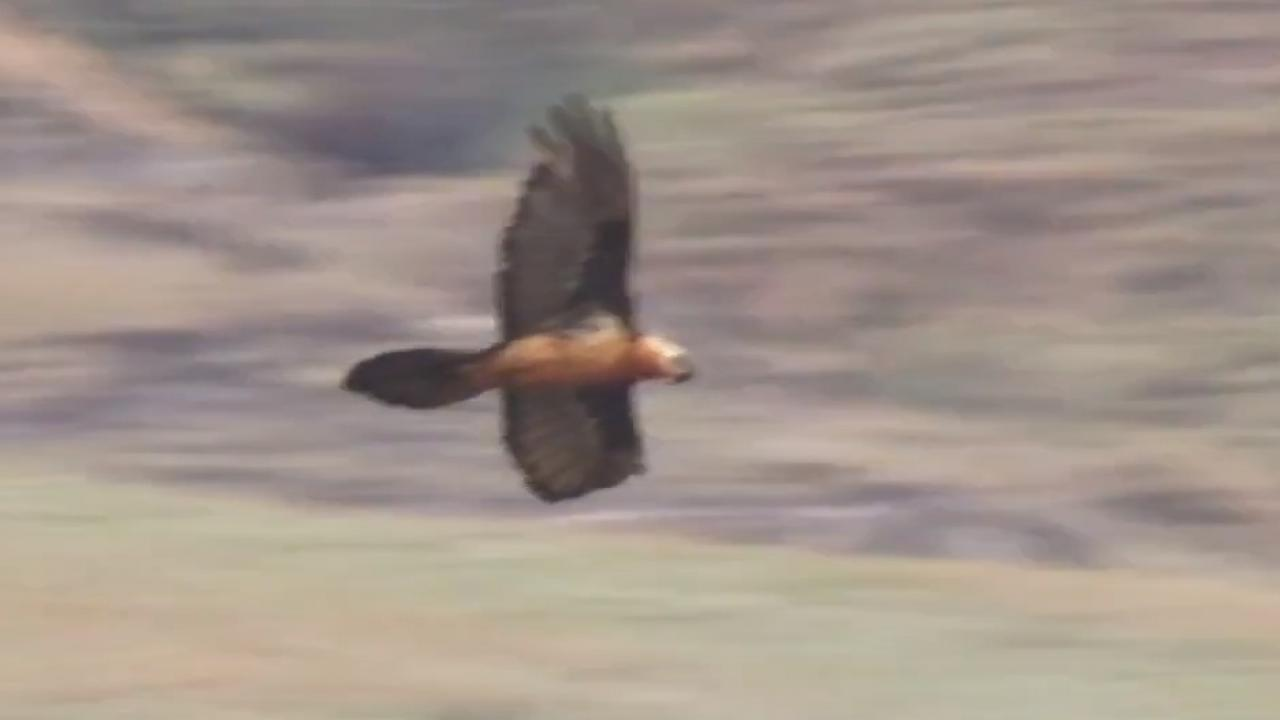Bird: (336, 83, 701, 512)
